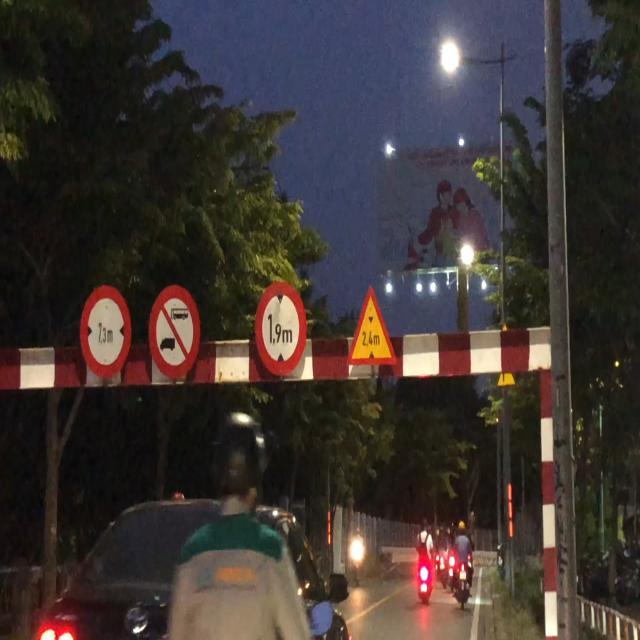Bien bao cam xe oto khach va xe oto tai: (144, 282, 206, 389)
Bien bao chieu cao tinh khong thuc te: (347, 280, 398, 376)
Bien bao han che chieu cao: (251, 276, 307, 394)
